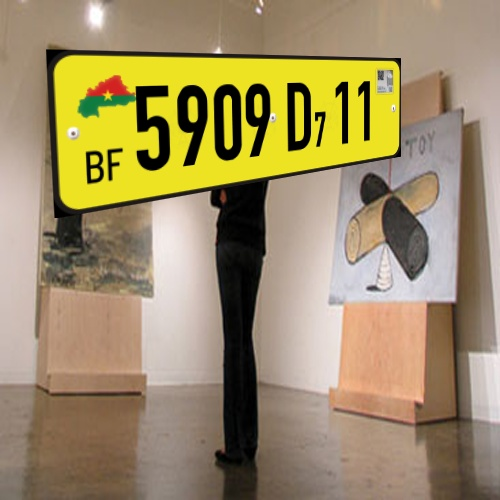plate: (34, 37, 410, 238)
